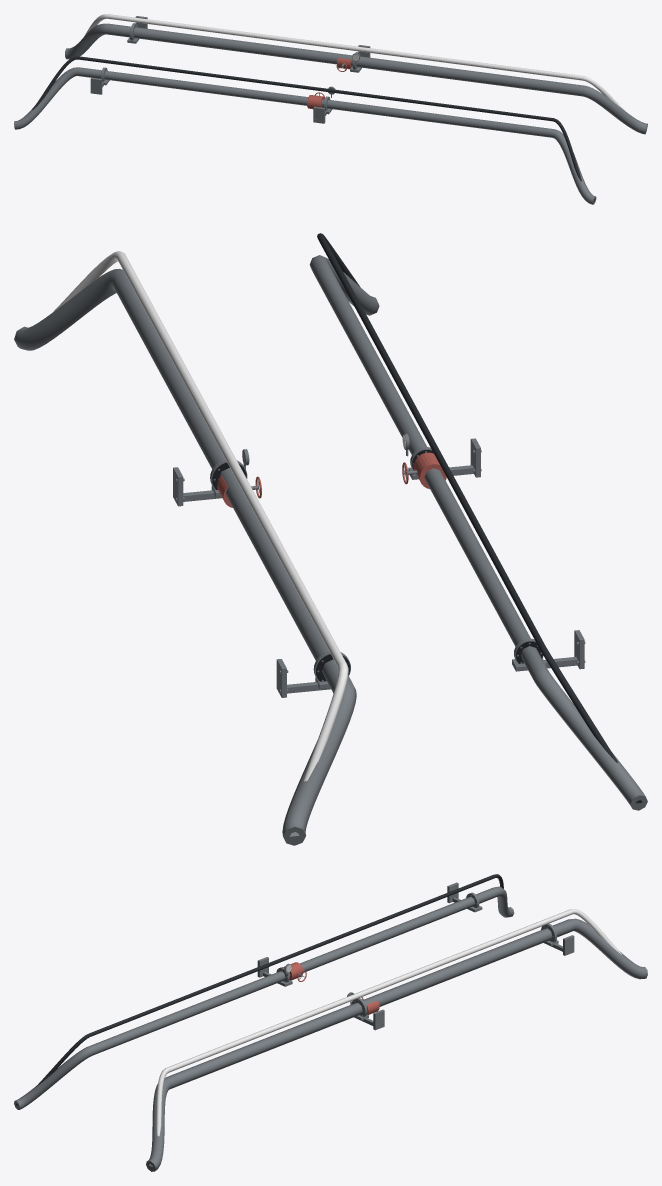
File: BD_T03_UpperProcessLines.fbx
The picture shows the model from 3 angles, top to bottom: view 1: azimuth 30°, elevation 25°; view 2: azimuth 150°, elevation 25°; view 3: azimuth 270°, elevation 25°; orthographic projection. The views are drawn at different scales.
Visible parts, largest first — view 1: BD_T03_UpperProcessLines; view 2: BD_T03_UpperProcessLines; view 3: BD_T03_UpperProcessLines.
Boxes of the visible parts, left/top/right/bottom form: BD_T03_UpperProcessLines: left=14, top=14, right=647, bottom=204; BD_T03_UpperProcessLines: left=14, top=233, right=647, bottom=845; BD_T03_UpperProcessLines: left=14, top=874, right=647, bottom=1171.
Size of the model in its own units: 1414 by 189 by 1470.
